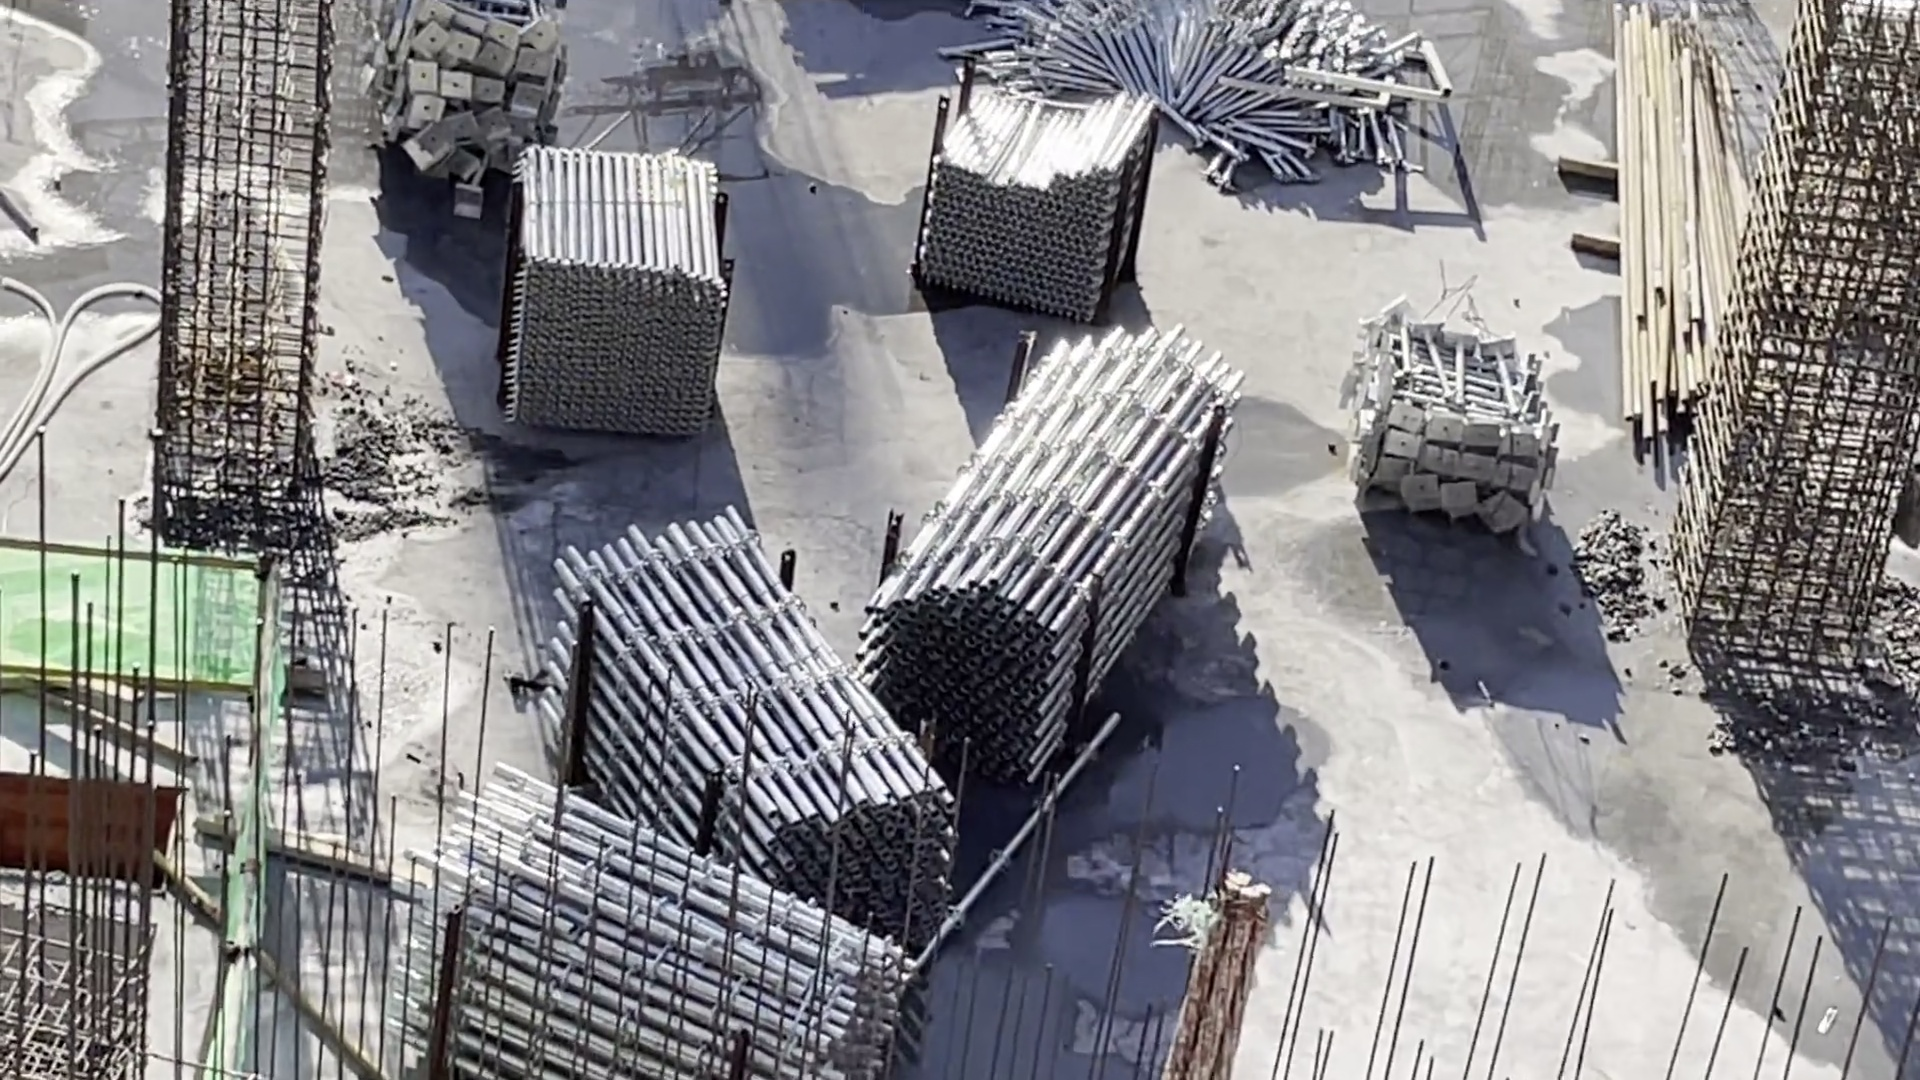scaffold: (538, 521, 915, 963), (873, 316, 1218, 760), (436, 783, 898, 1080), (477, 124, 732, 440), (1006, 1, 1425, 190), (1335, 302, 1545, 555), (930, 94, 1135, 323), (353, 1, 524, 194)
